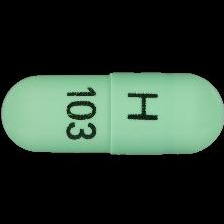61919-129: (0, 0, 224, 224)
